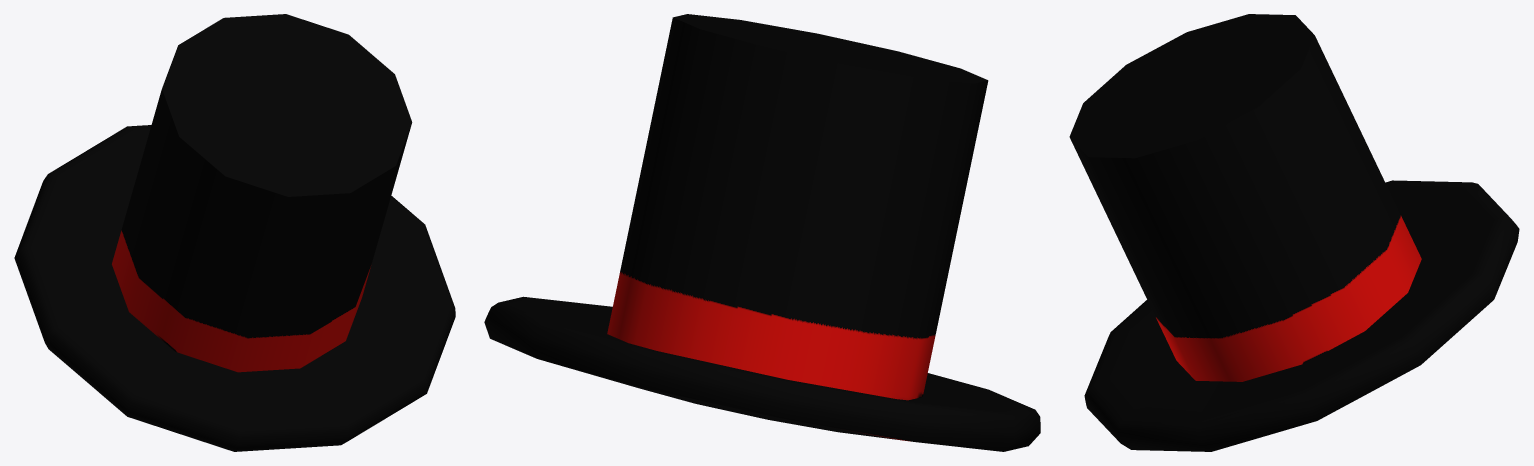
Rendered from tophat.fbx.
The picture shows the model from 3 angles, left to right: view 1: azimuth 30°, elevation 25°; view 2: azimuth 150°, elevation 25°; view 3: azimuth 270°, elevation 25°; orthographic projection. The views are drawn at different scales.
Visible parts, largest first — view 1: Cylinder; view 2: Cylinder; view 3: Cylinder.
Boxes of the visible parts, x1,y1,x2,y2 form: Cylinder: (14, 14, 455, 451); Cylinder: (484, 14, 1040, 451); Cylinder: (1069, 14, 1519, 451).
Bounding box in the file's own units: 0.2962 × 0.2585 × 0.2827.
